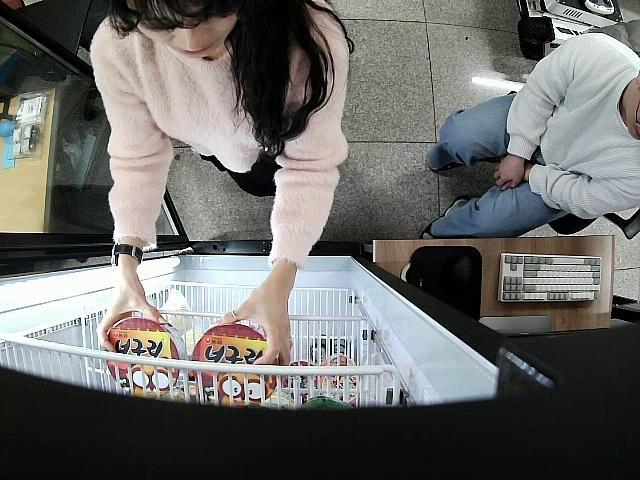05_nuguri_L: (192, 325, 278, 407), (102, 319, 185, 395)
